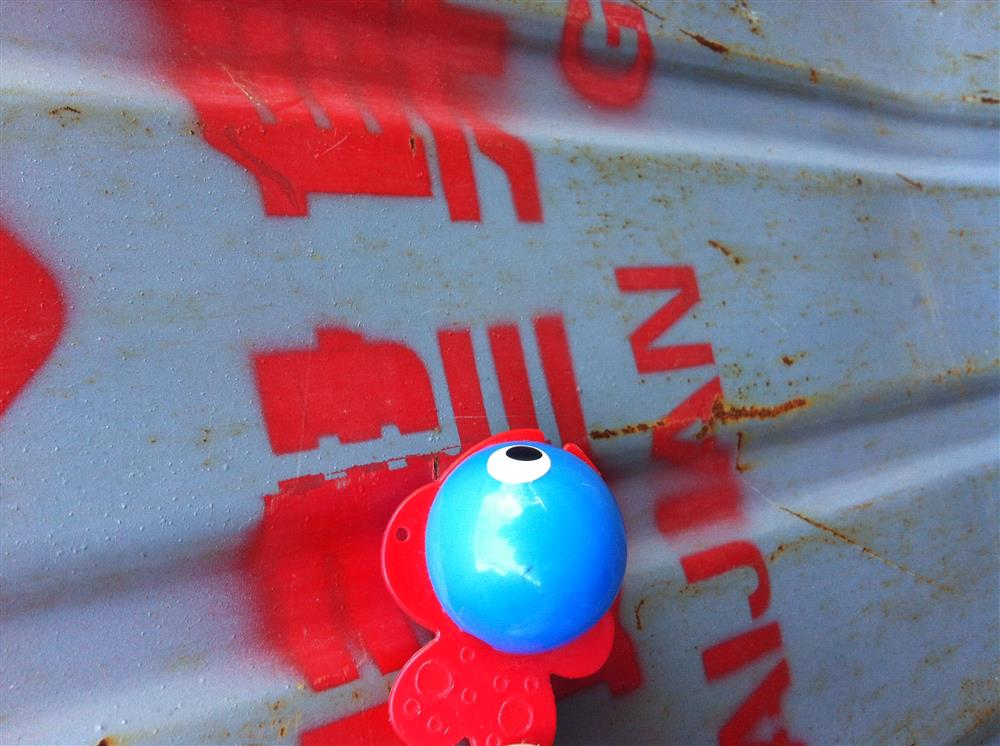wierd_fish: (376, 428, 629, 741)
